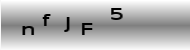5: (109, 7, 124, 21)
F: (81, 22, 93, 37)
J: (63, 16, 71, 34)
f: (41, 12, 51, 28)
n: (21, 24, 34, 37)
